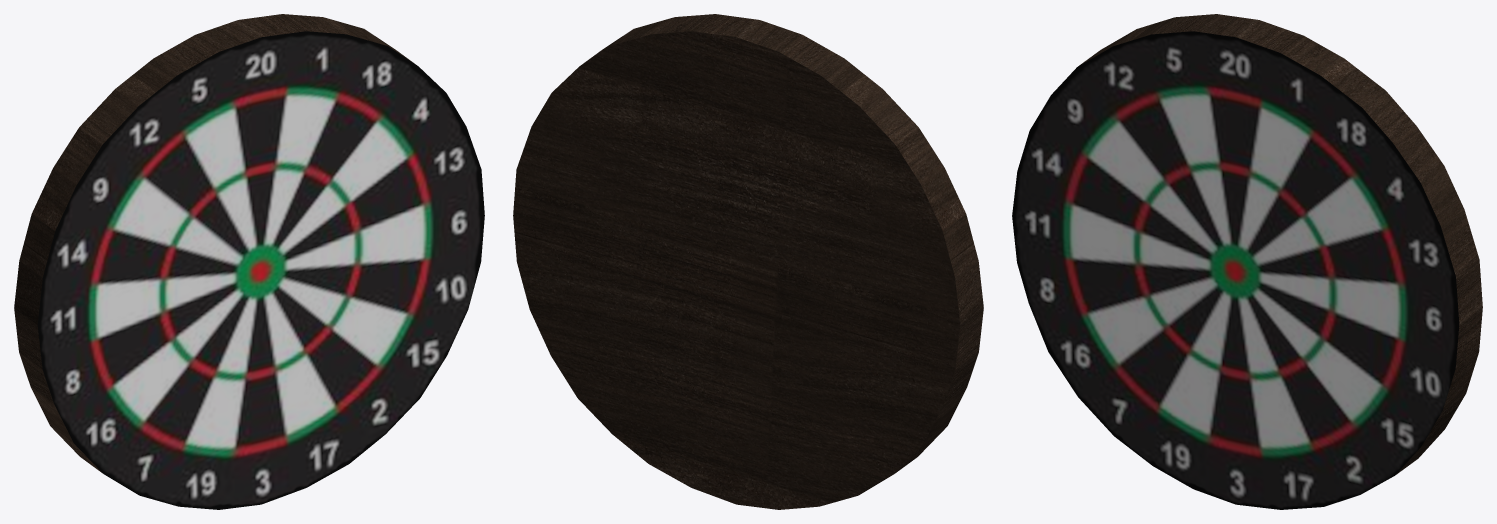
Rendered from SimpleDartboard1.fbx.
The picture shows the model from 3 angles, left to right: view 1: azimuth 30°, elevation 25°; view 2: azimuth 150°, elevation 25°; view 3: azimuth 330°, elevation 25°; orthographic projection.
Parts seen in each view (by area): view 1: Cube; view 2: Cube; view 3: Cube.
Part boxes in pixels (x1,y1,x2,y2): Cube: (14,14,484,509); Cube: (513,14,983,509); Cube: (1012,14,1482,509).
Bounding box in the file's own units: 1975 × 1972 × 180.
Materials: 1 (1 with a texture image).
